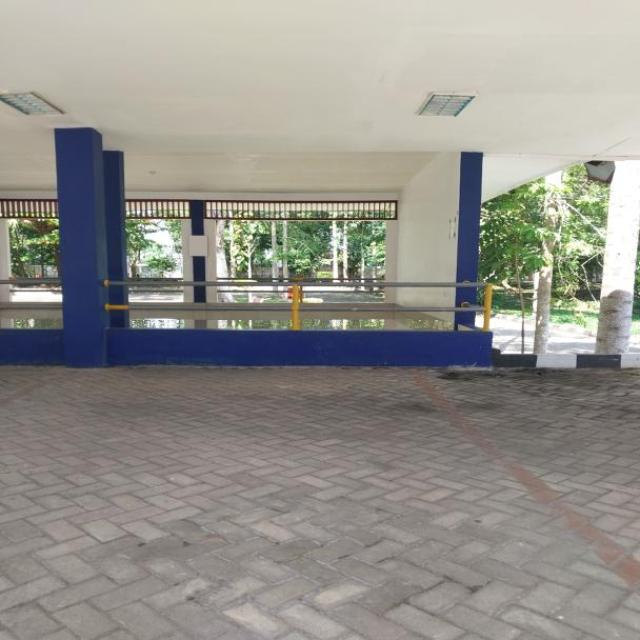pillar ahead at: (51, 125, 120, 368)
